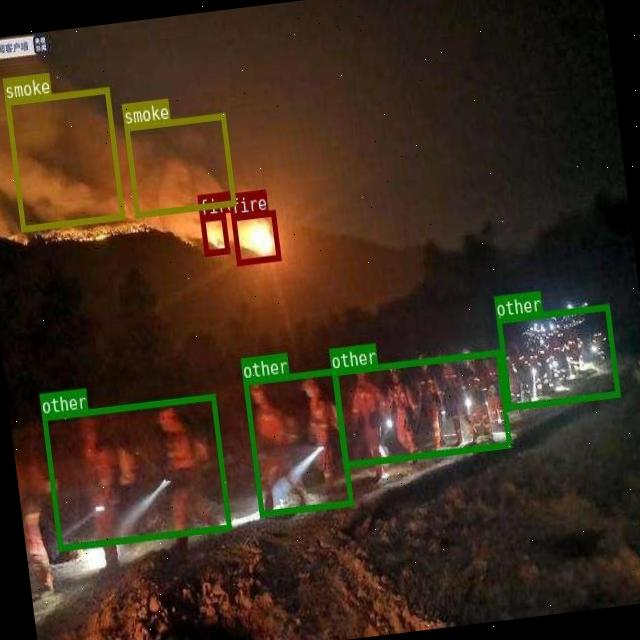fire: (230, 209, 280, 264), (199, 213, 229, 255)
smoke: (5, 85, 124, 231), (124, 112, 235, 216)
